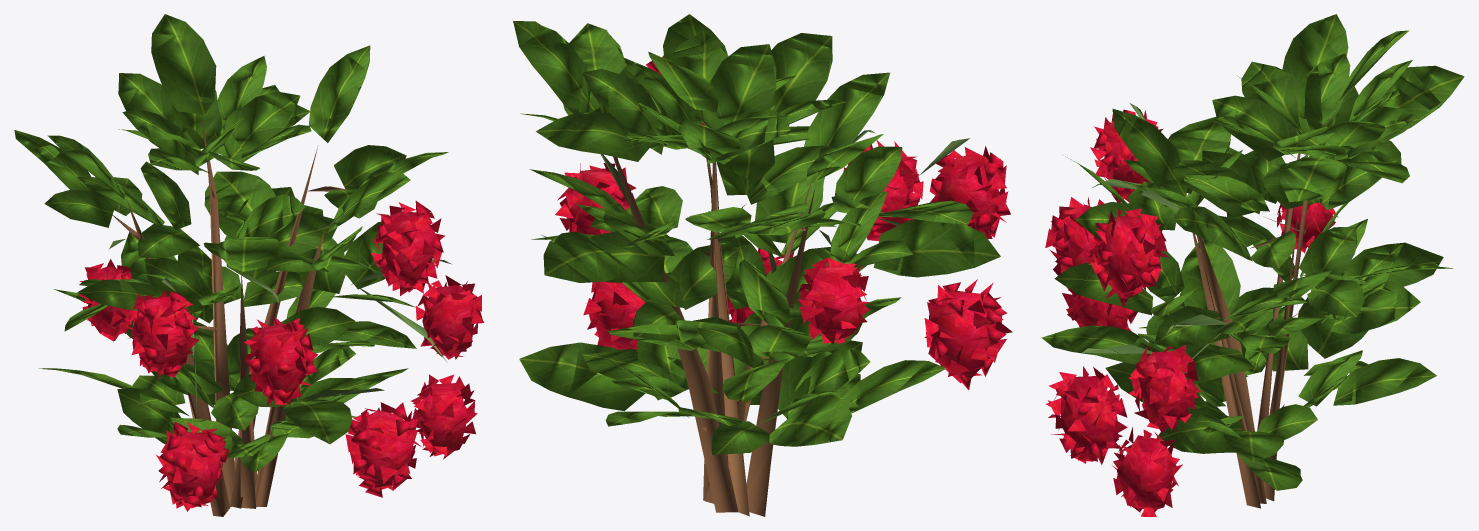
Rendered from NP_Raspberry_Ready_LOD1.fbx.
The picture shows the model from 3 angles, left to right: view 1: azimuth 30°, elevation 25°; view 2: azimuth 150°, elevation 25°; view 3: azimuth 270°, elevation 25°; orthographic projection. The views are drawn at different scales.
Visible parts, largest first — view 1: NP_Raspberry_Ready; view 2: NP_Raspberry_Ready; view 3: NP_Raspberry_Ready.
Boxes of the visible parts, x1,y1,x2,y2 form: NP_Raspberry_Ready: (14,14,484,516); NP_Raspberry_Ready: (513,14,1012,516); NP_Raspberry_Ready: (1041,14,1464,516).
Size of the model in its own units: 80.21 by 85.75 by 70.81.
